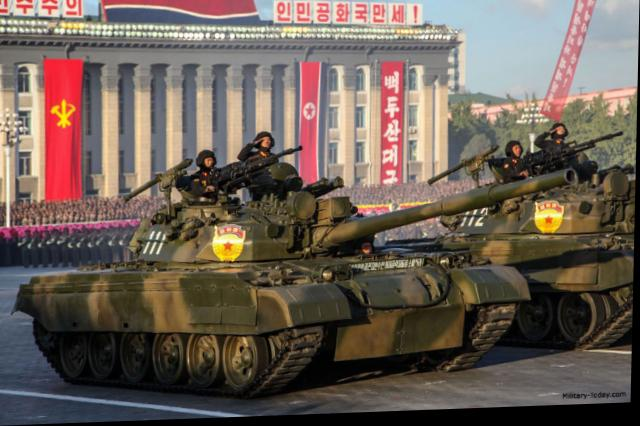tank: (18, 183, 520, 410), (450, 115, 637, 361)
